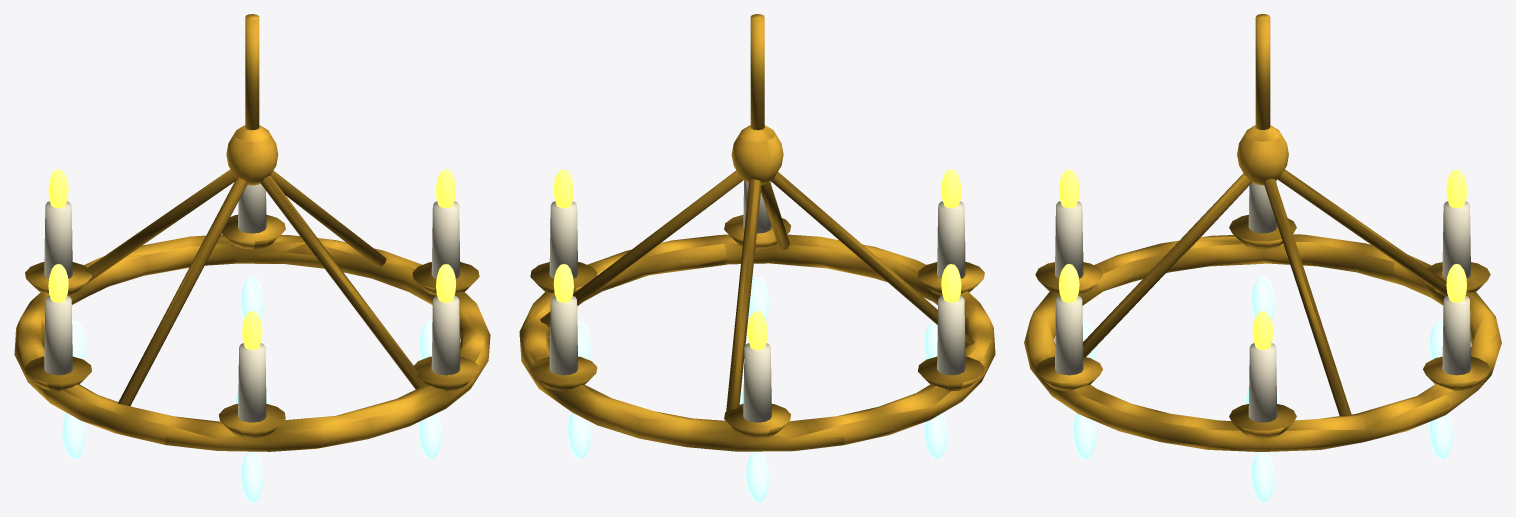
Rendered from h_prop_chandelier.glb.
3 renders of one model, left to right at view 1: azimuth 30°, elevation 25°; view 2: azimuth 150°, elevation 25°; view 3: azimuth 270°, elevation 25°, orthographic.
Parts seen in each view (by area): view 1: ChdMainRing, ChdSuspension_3, ChdSuspension_2, ChdCrownHub, ChdSuspension_1, ChdCandle_5, ChdCandle_3, ChdCandle_4, ChdCandle_0, ChdCandle_2, ChdSuspension_0, ChdChainRod (+16 smaller); view 2: ChdMainRing, ChdSuspension_1, ChdSuspension_2, ChdSuspension_0, ChdCrownHub, ChdCandle_1, ChdCandle_3, ChdCandle_2, ChdCandle_4, ChdCandle_0, ChdChainRod, ChdDish_2 (+16 smaller); view 3: ChdMainRing, ChdSuspension_0, ChdSuspension_3, ChdSuspension_1, ChdCrownHub, ChdCandle_0, ChdCandle_1, ChdCandle_5, ChdCandle_2, ChdCandle_4, ChdChainRod, ChdDish_0 (+15 smaller).
Part boxes in pixels (bbox=[...]): ChdMainRing: bbox=[14, 234, 490, 451]; ChdSuspension_3: bbox=[260, 175, 426, 389]; ChdSuspension_2: bbox=[118, 177, 247, 405]; ChdCrownHub: bbox=[226, 125, 278, 185]; ChdSuspension_1: bbox=[84, 169, 235, 285]; ChdCandle_5: bbox=[431, 296, 460, 375]; ChdCandle_3: bbox=[44, 295, 72, 375]; ChdCandle_4: bbox=[238, 343, 266, 422]; ChdCandle_0: bbox=[431, 201, 460, 278]; ChdCandle_2: bbox=[44, 201, 72, 278]; ChdSuspension_0: bbox=[270, 170, 386, 267]; ChdChainRod: bbox=[245, 14, 259, 130]; ChdMainRing: bbox=[519, 234, 995, 451]; ChdSuspension_1: bbox=[725, 179, 761, 420]; ChdSuspension_2: bbox=[771, 172, 974, 348]; ChdSuspension_0: bbox=[540, 170, 743, 327]; ChdCrownHub: bbox=[731, 125, 783, 184]; ChdCandle_1: bbox=[549, 296, 578, 375]; ChdCandle_3: bbox=[937, 295, 965, 375]; ChdCandle_2: bbox=[743, 343, 771, 422]; ChdCandle_4: bbox=[937, 201, 965, 278]; ChdCandle_0: bbox=[549, 201, 578, 278]; ChdChainRod: bbox=[750, 14, 764, 130]; ChdDish_2: bbox=[724, 404, 790, 438]; ChdMainRing: bbox=[1024, 234, 1501, 451]; ChdSuspension_0: bbox=[1264, 178, 1351, 416]; ChdSuspension_3: bbox=[1083, 173, 1252, 356]; ChdSuspension_1: bbox=[1278, 169, 1447, 296]; ChdCrownHub: bbox=[1237, 125, 1288, 185]; ChdCandle_0: bbox=[1248, 343, 1277, 422]; ChdCandle_1: bbox=[1442, 296, 1470, 375]; ChdCandle_5: bbox=[1055, 296, 1083, 375]; ChdCandle_2: bbox=[1442, 201, 1470, 278]; ChdCandle_4: bbox=[1055, 201, 1083, 278]; ChdChainRod: bbox=[1255, 14, 1270, 129]; ChdDish_0: bbox=[1229, 404, 1296, 438].
Size of the model in its own units: 1.29 by 1.17 by 1.2.
4 materials, 1 textured.
